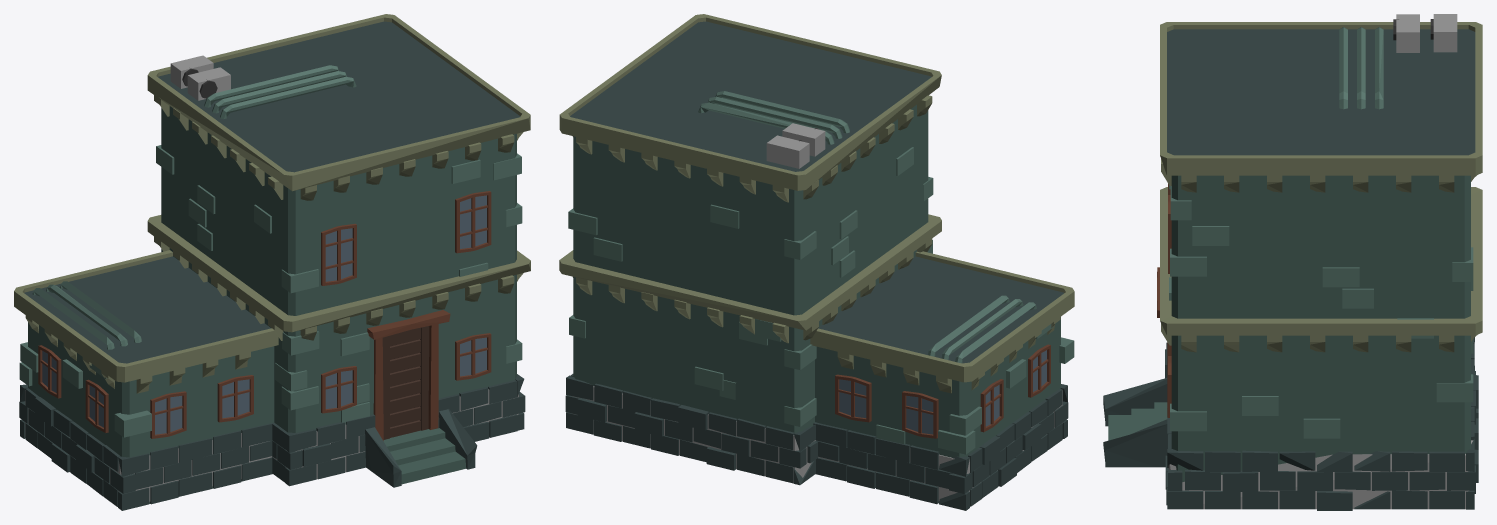
File: 2Story_Sidehouse.glb
The picture shows the model from 3 angles, left to right: view 1: azimuth 30°, elevation 25°; view 2: azimuth 150°, elevation 25°; view 3: azimuth 270°, elevation 25°; orthographic projection. The views are drawn at different scales.
Parts seen in each view (by area): view 1: 2Story_Sidehouse_Mat; view 2: 2Story_Sidehouse_Mat; view 3: 2Story_Sidehouse_Mat.
Boxes of the visible parts, x1,y1,x2,y2 form: 2Story_Sidehouse_Mat: (14, 14, 530, 510); 2Story_Sidehouse_Mat: (559, 14, 1074, 510); 2Story_Sidehouse_Mat: (1103, 14, 1482, 510).
Bounding box in the file's own units: 3.47 × 2.74 × 2.53.
